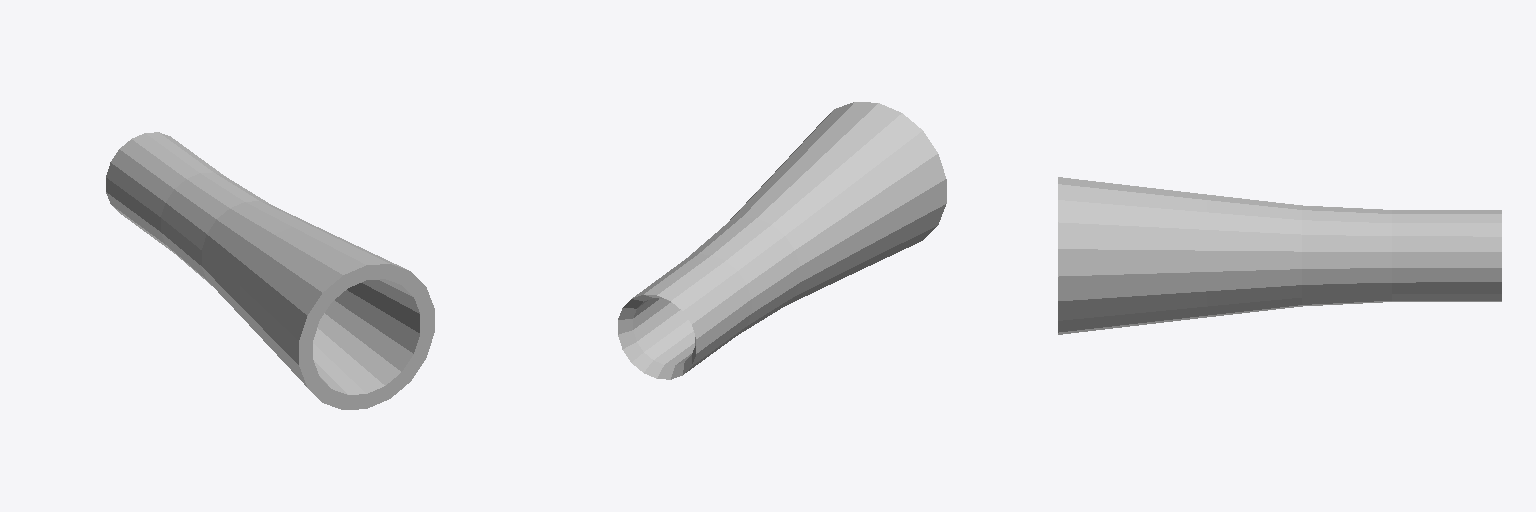
Rendered from enemy_barrel.obj.
3 renders of one model, left to right at view 1: azimuth 30°, elevation 25°; view 2: azimuth 150°, elevation 25°; view 3: azimuth 270°, elevation 25°, orthographic.
Visible parts, largest first — view 1: Tank_Barrel_Cylinder.005; view 2: Tank_Barrel_Cylinder.005; view 3: Tank_Barrel_Cylinder.005.
Boxes of the visible parts, x1=… form: Tank_Barrel_Cylinder.005: x1=106, y1=132, x2=434, y2=409; Tank_Barrel_Cylinder.005: x1=618, y1=102, x2=946, y2=379; Tank_Barrel_Cylinder.005: x1=1058, y1=177, x2=1501, y2=334.
Size of the model in its own units: 0.7828 by 0.7948 by 2.22.